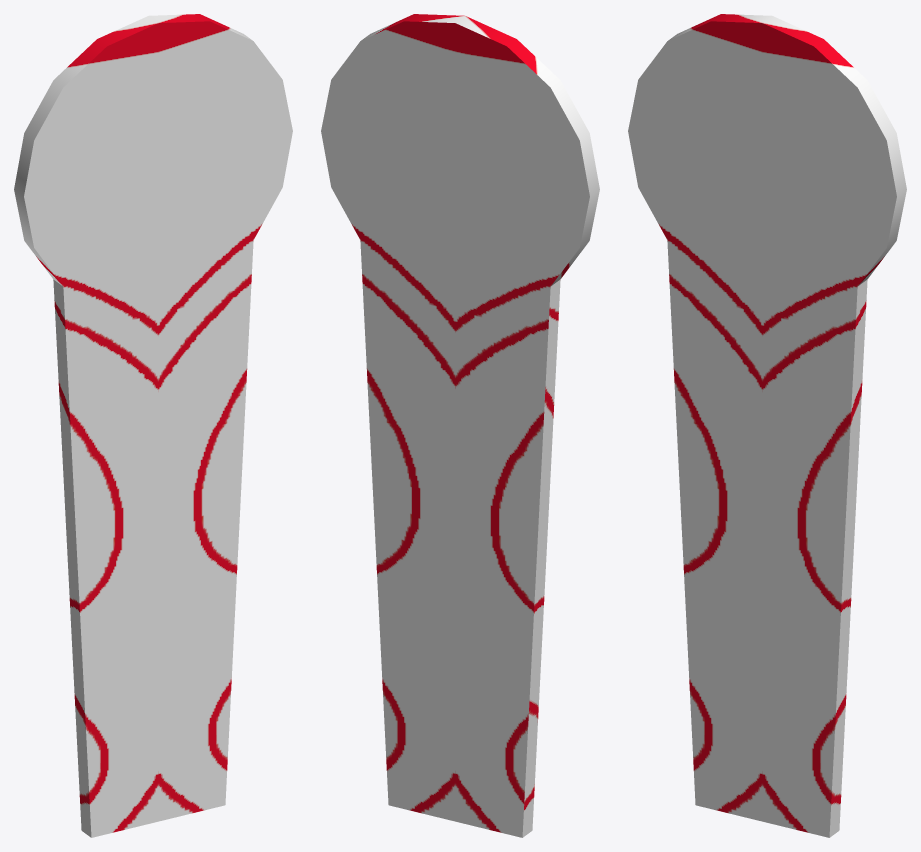
Rendered from gangba2.FBX.
3 renders of one model, left to right at view 1: azimuth 30°, elevation 25°; view 2: azimuth 150°, elevation 25°; view 3: azimuth 330°, elevation 25°, orthographic.
Visible parts, largest first — view 1: Object26; view 2: Object26; view 3: Object26.
Part boxes in pixels (box(x1,y1,x2,y2)): Object26: box(14, 14, 292, 837); Object26: box(321, 14, 599, 837); Object26: box(628, 14, 906, 837).
Bounding box in the file's own units: 11.81 × 0.7579 × 33.5.
